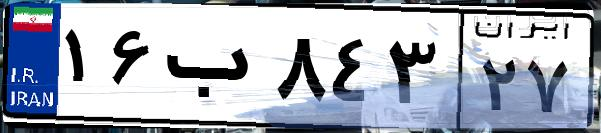1: (57, 26, 110, 100)
2: (475, 38, 525, 113)
3: (385, 28, 445, 110)
4: (330, 28, 385, 110)
6: (110, 28, 158, 98)
7: (525, 38, 570, 115)
8: (270, 28, 330, 110)
ب: (158, 20, 270, 120)
